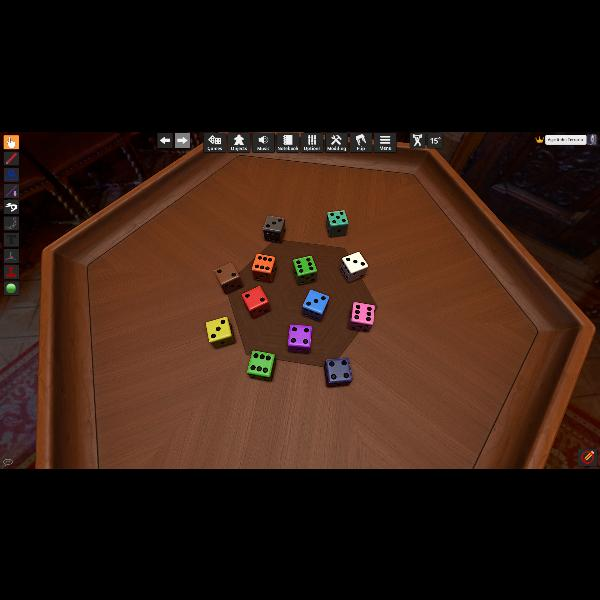d6: (242, 285, 270, 318), (206, 316, 234, 348), (214, 262, 242, 294), (340, 250, 368, 282), (302, 288, 328, 321), (246, 352, 276, 380), (349, 301, 375, 331), (325, 358, 352, 386), (251, 253, 275, 283), (292, 255, 316, 285), (288, 324, 312, 352), (326, 209, 348, 237), (262, 215, 284, 243)
